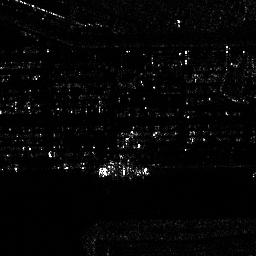ship: (97, 163, 150, 181)
